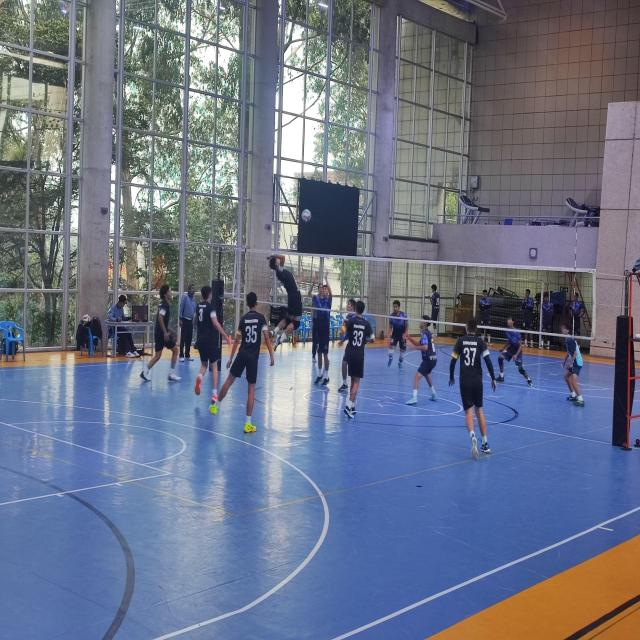volleyball: (302, 210, 312, 222)
